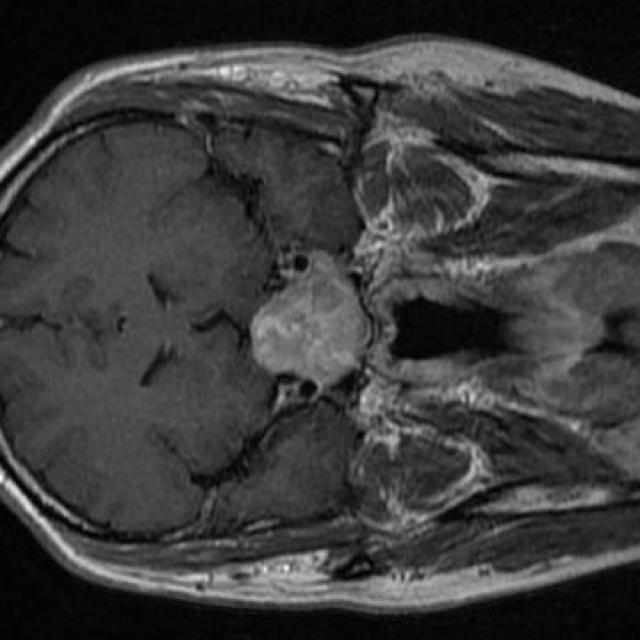pituitary: (250, 251, 367, 389)
